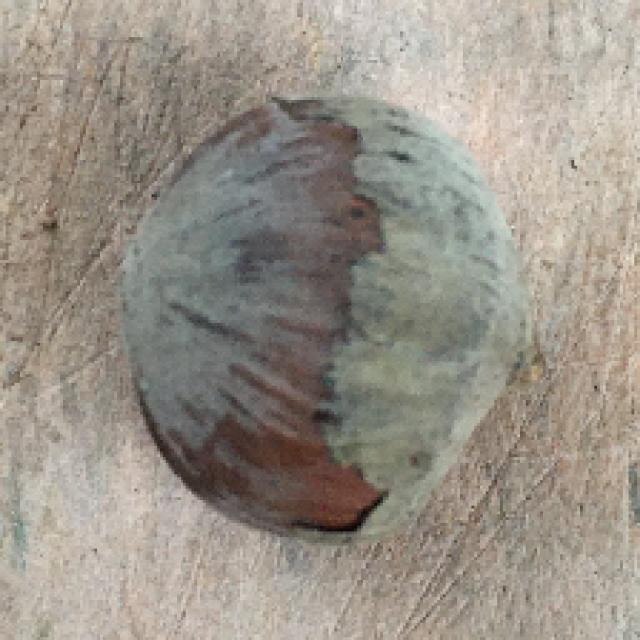damagedHazelnut: (119, 76, 520, 558)
